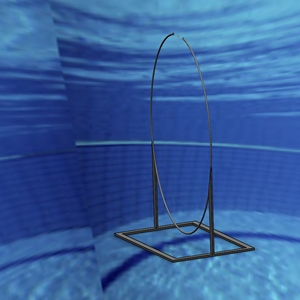circle: (114, 32, 257, 262)
